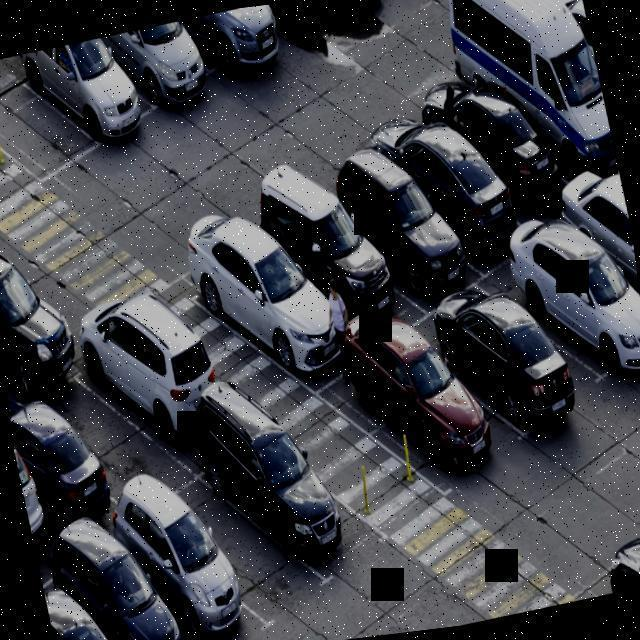car: (338, 313, 512, 485), (426, 263, 590, 442), (206, 416, 374, 586), (482, 23, 620, 197), (505, 224, 640, 391), (386, 121, 524, 272), (269, 194, 415, 336), (125, 492, 265, 640), (200, 243, 352, 379), (341, 155, 474, 310), (78, 317, 225, 444), (24, 29, 154, 168), (441, 87, 572, 218), (6, 378, 117, 530), (61, 540, 194, 640), (88, 15, 213, 109), (154, 5, 273, 89), (574, 184, 640, 335), (550, 0, 609, 130), (11, 419, 48, 558), (48, 604, 130, 640)
free: (178, 448, 320, 614), (37, 364, 180, 504), (0, 45, 93, 194)
